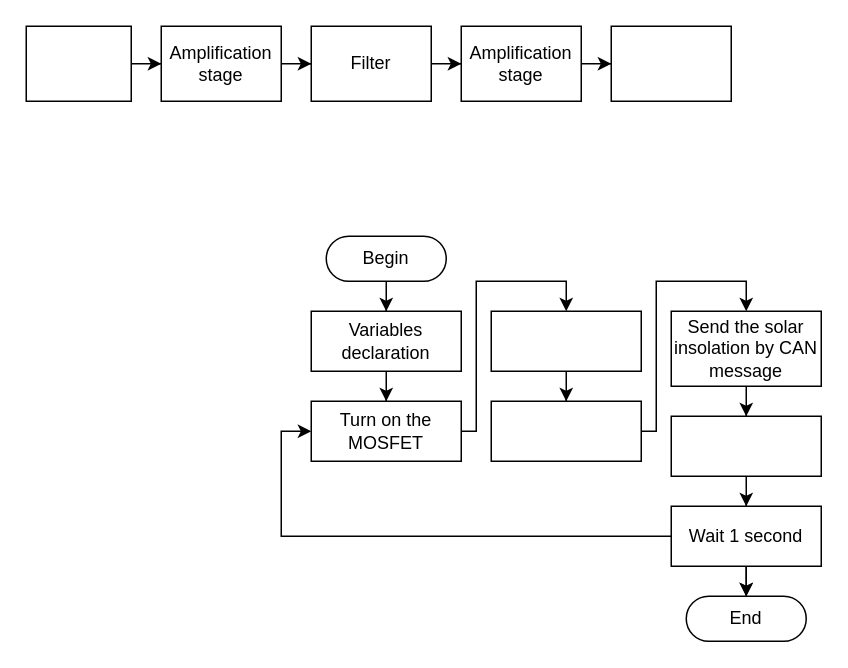
Some shapes in this 848 by 668 pixel diagram are drawn without their labels. The shapes that lost their labels are listed below. From the top down, each one's box as (x1, y1, x2, y2) in pixels, then its label:
(25, 25, 131, 101): Shunt resistor
(610, 25, 731, 101): Acquisition system
(490, 310, 641, 371): Read the current x5
(490, 400, 641, 461): Estimate the solar insolation
(670, 415, 821, 476): Turn off the MOSFET
